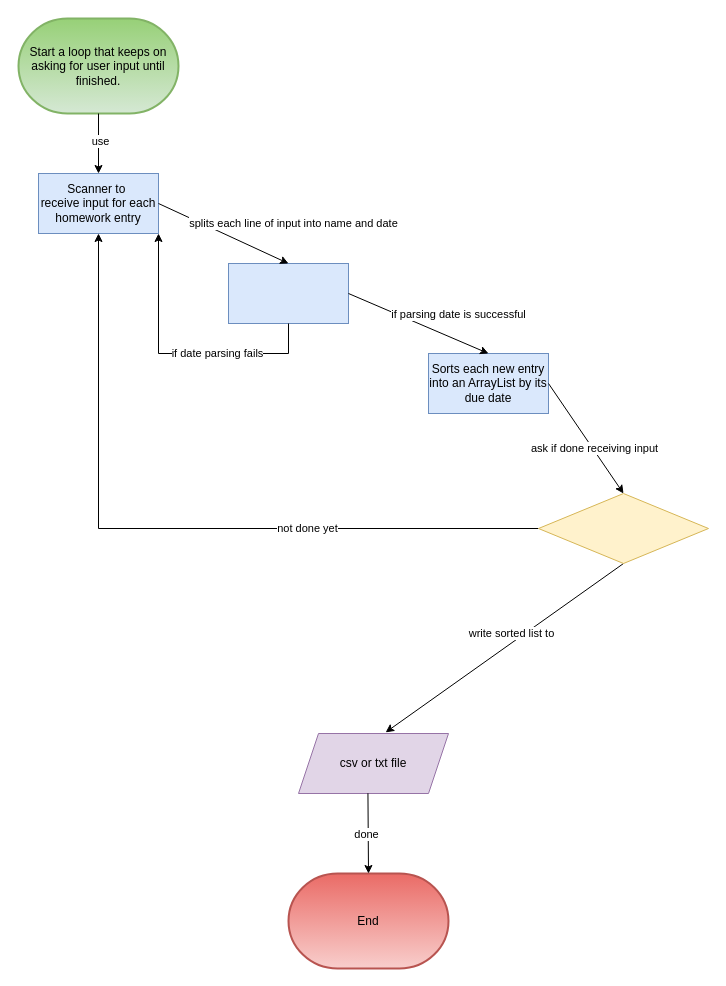
Some shapes in this 726 by 986 pixel diagram are drawn without their labels. Here are the shapes that lost their labels. From the top down, the box of each, then its label:
(228, 262, 348, 324): Parses the date part of input into a LocalDate
(538, 492, 708, 564): done?
